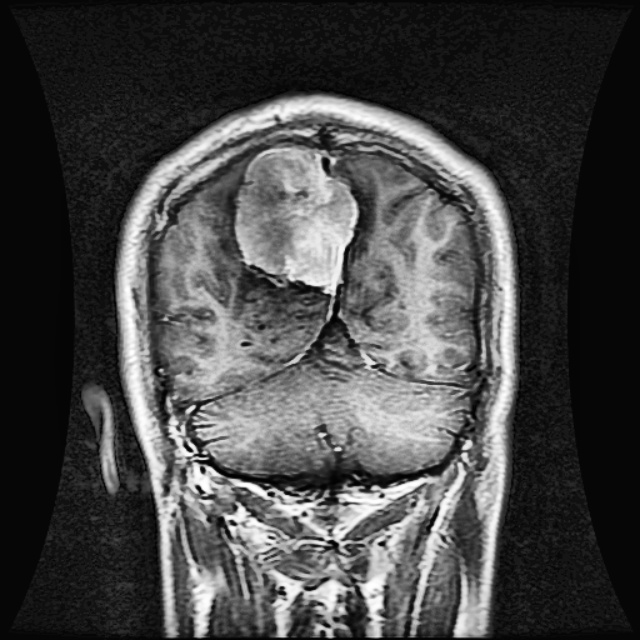Glioma: (235, 145, 357, 285)
